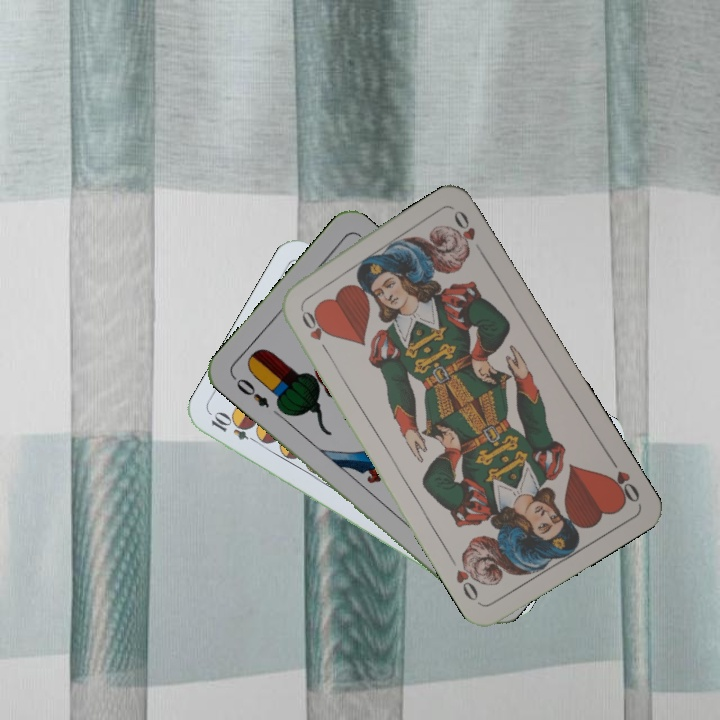E10: (207, 409, 263, 447)
EO: (228, 372, 272, 411)
HO: (604, 452, 643, 506), (296, 302, 332, 357)
